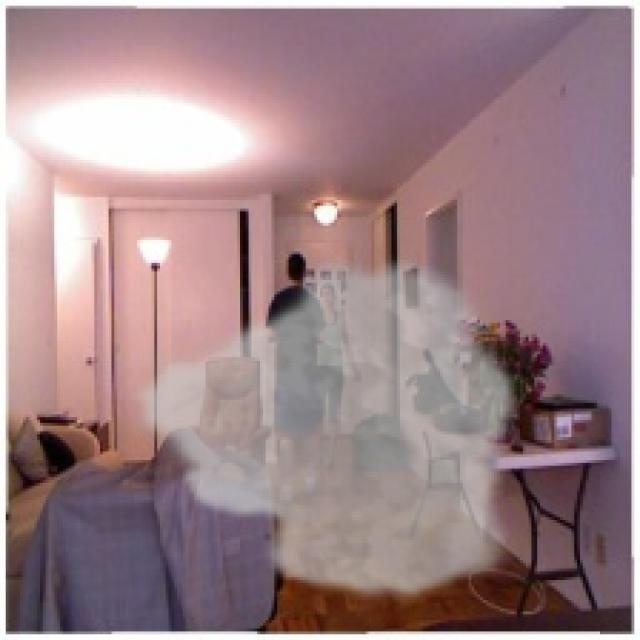smoke: (128, 248, 523, 606)
